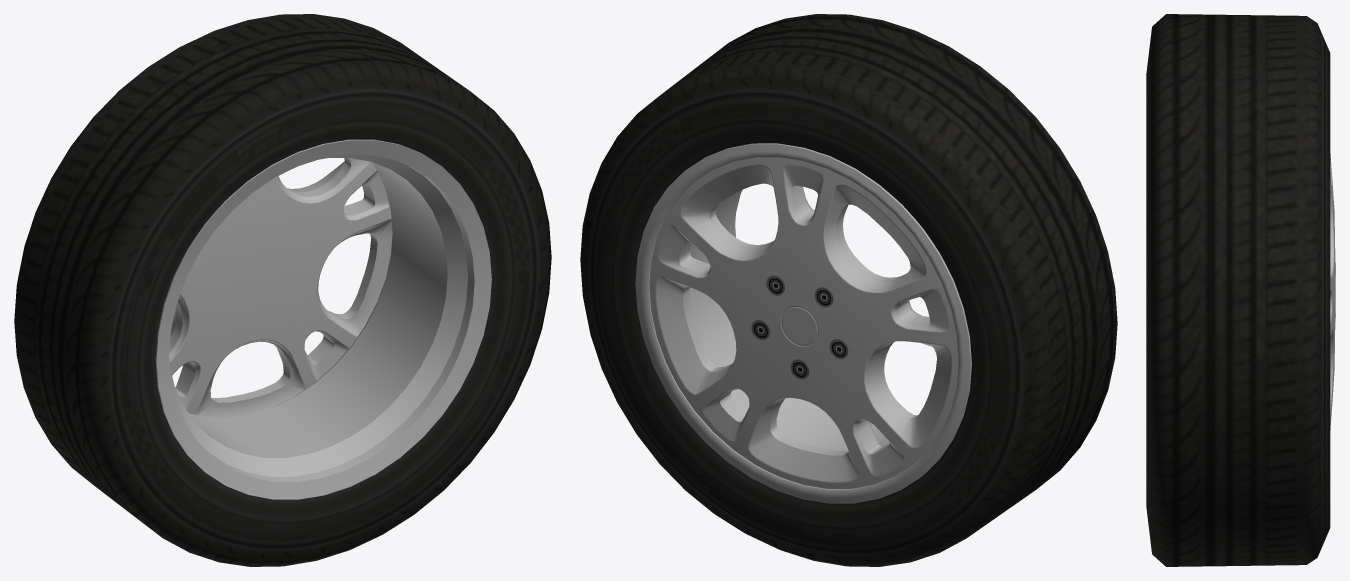
The picture shows the model from 3 angles, left to right: view 1: azimuth 30°, elevation 25°; view 2: azimuth 150°, elevation 25°; view 3: azimuth 270°, elevation 25°; orthographic projection.
Parts seen in each view (by area): view 1: P353_20_901B_L_1_DM_P353_20_901B_L, P353_20_901B_L_P353_20_901B_L_2_DaS; view 2: P353_20_901B_L_1_DM_P353_20_901B_L, P353_20_901B_L_P353_20_901B_L_2_DaS, P353_20_901B_L_P353_20_901B_L_3_D; view 3: P353_20_901B_L_1_DM_P353_20_901B_L, P353_20_901B_L_P353_20_901B_L_2_DaS.
Part boxes in pixels (box(x1,y1,x2,y2)): P353_20_901B_L_1_DM_P353_20_901B_L: box(14, 14, 551, 566); P353_20_901B_L_P353_20_901B_L_2_DaS: box(155, 139, 491, 499); P353_20_901B_L_1_DM_P353_20_901B_L: box(580, 14, 1117, 566); P353_20_901B_L_P353_20_901B_L_2_DaS: box(635, 143, 971, 503); P353_20_901B_L_P353_20_901B_L_3_D: box(751, 275, 848, 379); P353_20_901B_L_1_DM_P353_20_901B_L: box(1146, 14, 1330, 566); P353_20_901B_L_P353_20_901B_L_2_DaS: box(1330, 153, 1335, 429).
Size of the model in its own units: 70.07 by 70.07 by 23.98.
